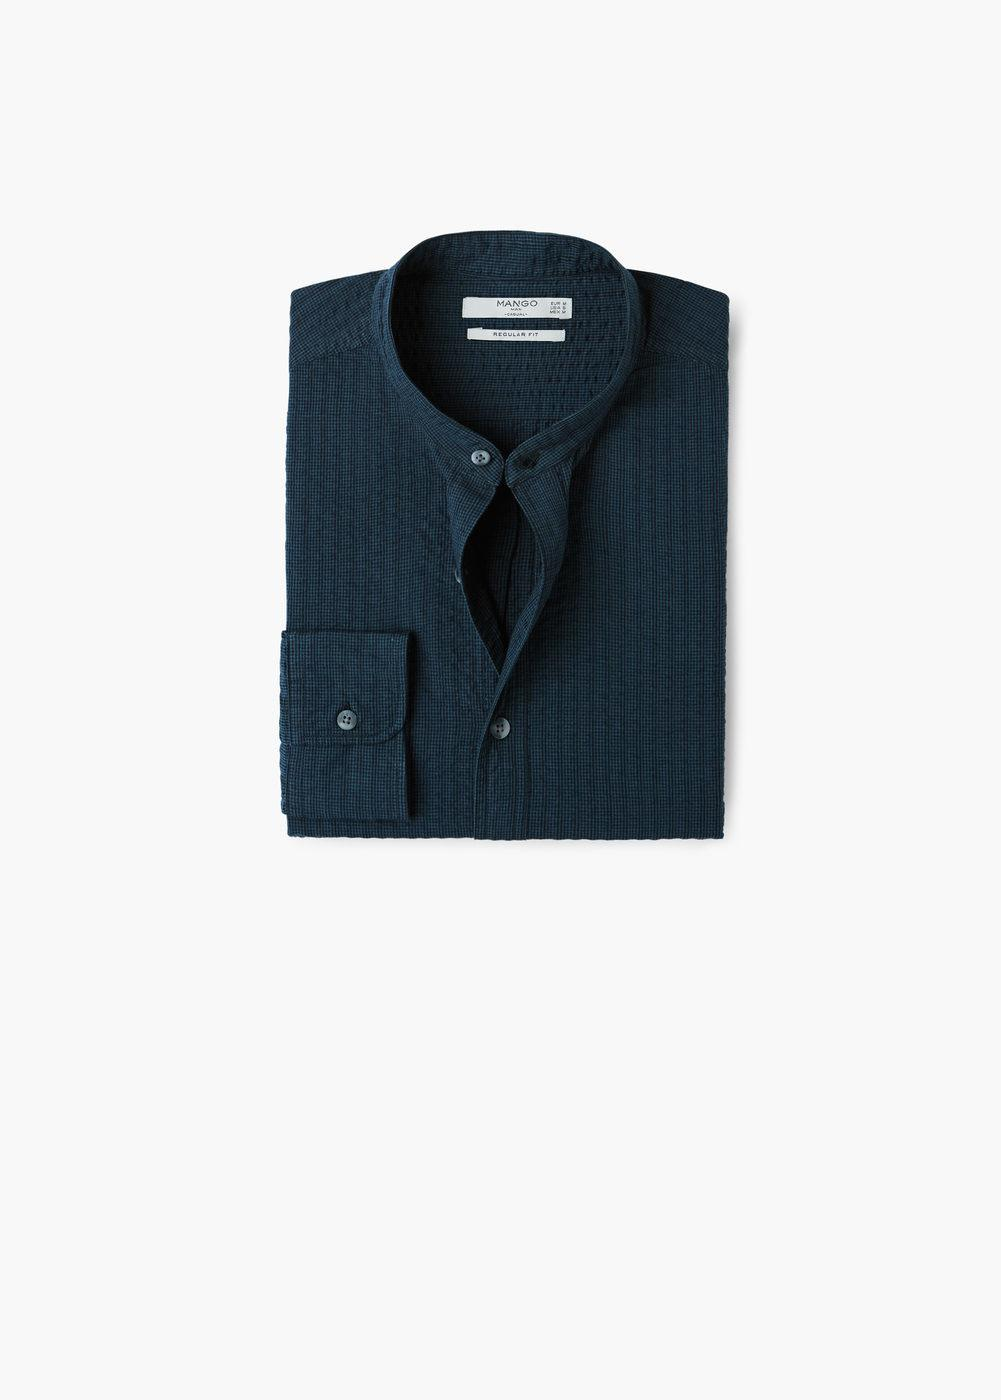teeshirt: (240, 215, 744, 876)
